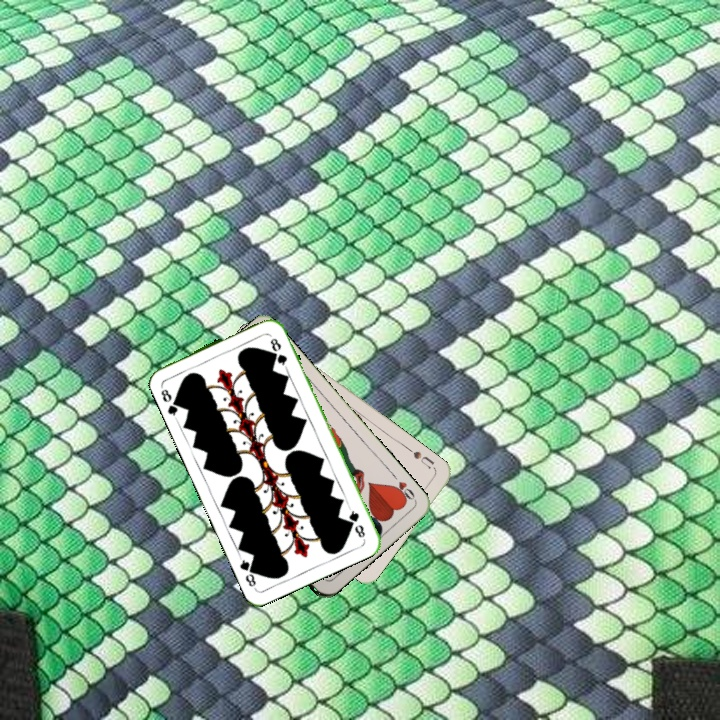G8: (156, 381, 184, 418), (345, 503, 368, 540)
HO: (388, 469, 418, 505)
SU: (409, 447, 437, 471)
